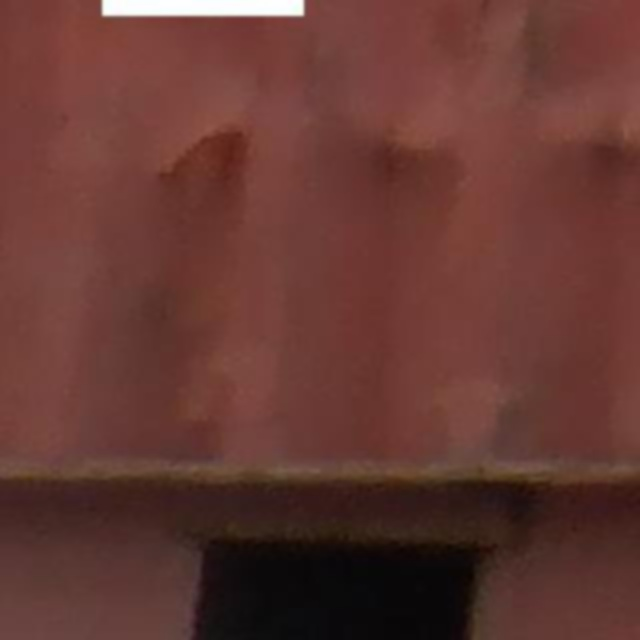Dent: (123, 77, 640, 223)
